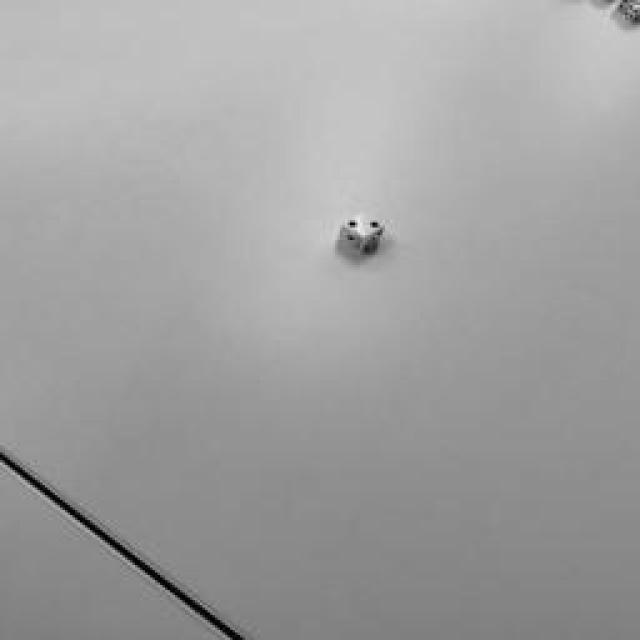dice_2: (344, 212, 384, 238)
